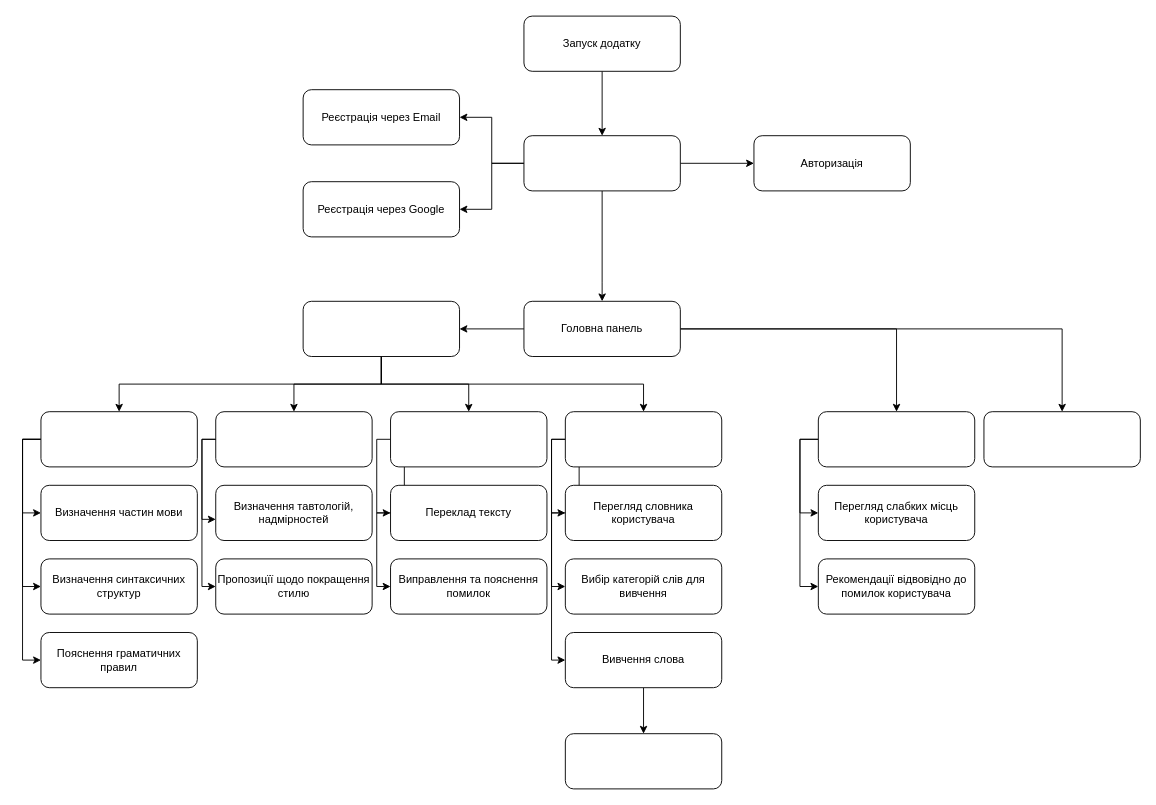
The diagram is 1156 pixels wide and 805 high, and some of its shapes have lost their labels. Each missing label, with the centre of its shape:
"Вибір режиму" belongs at (381,328).
"Вибір рівняі" belongs at (1061,439).
"Вхід користувача до системи" belongs at (601,163).
"Зміна статусу слова" belongs at (643,761).
"Модуль вивчення слів" belongs at (468,439).
"Модуль граматичного аналізу" belongs at (118,439).
"Модуль перекладу" belongs at (643,439).
"Модуль стилістичного аналізу" belongs at (293,439).
"Перегляд статистики користувача" belongs at (896,439).
